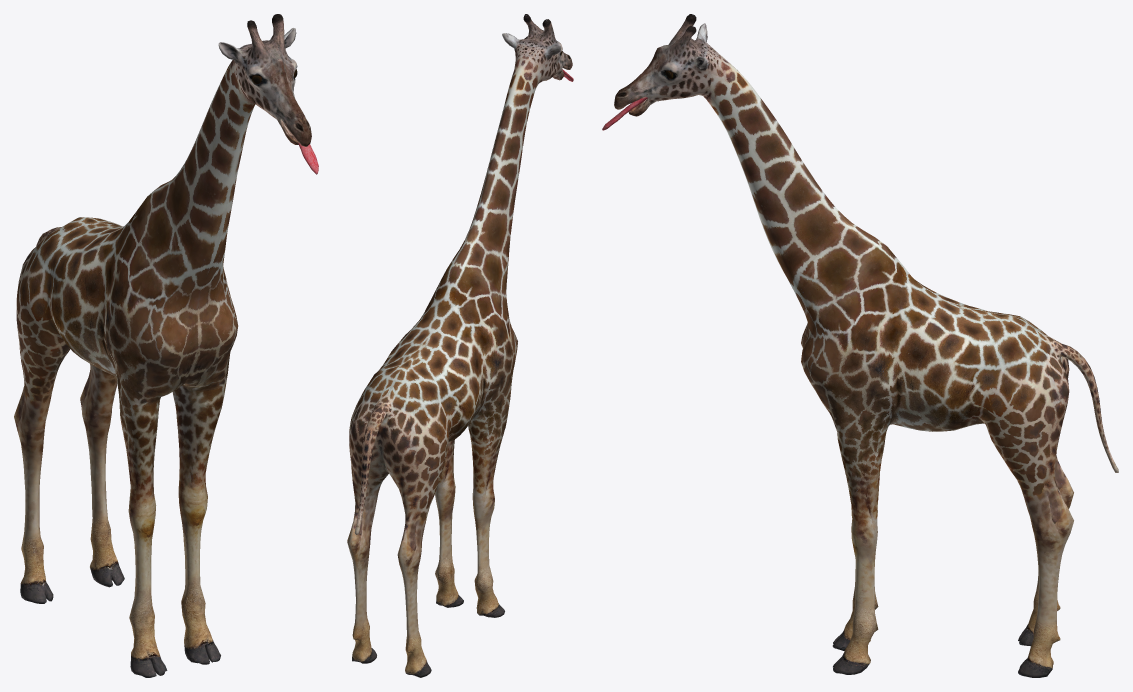
File: giraffe.glb
3 views of the same model, side by side, from view 1: azimuth 30°, elevation 25°; view 2: azimuth 150°, elevation 25°; view 3: azimuth 270°, elevation 25° (orthographic). The views are drawn at different scales.
Parts seen in each view (by area): view 1: giraffe; view 2: giraffe; view 3: giraffe.
Part boxes in pixels (x1,y1,x2,y2): giraffe: (14,14,318,677); giraffe: (347,14,573,677); giraffe: (602,14,1118,677).
Size of the model in its own units: 1.84 by 10.52 by 7.72.
Materials: 1 (1 with a texture image).
